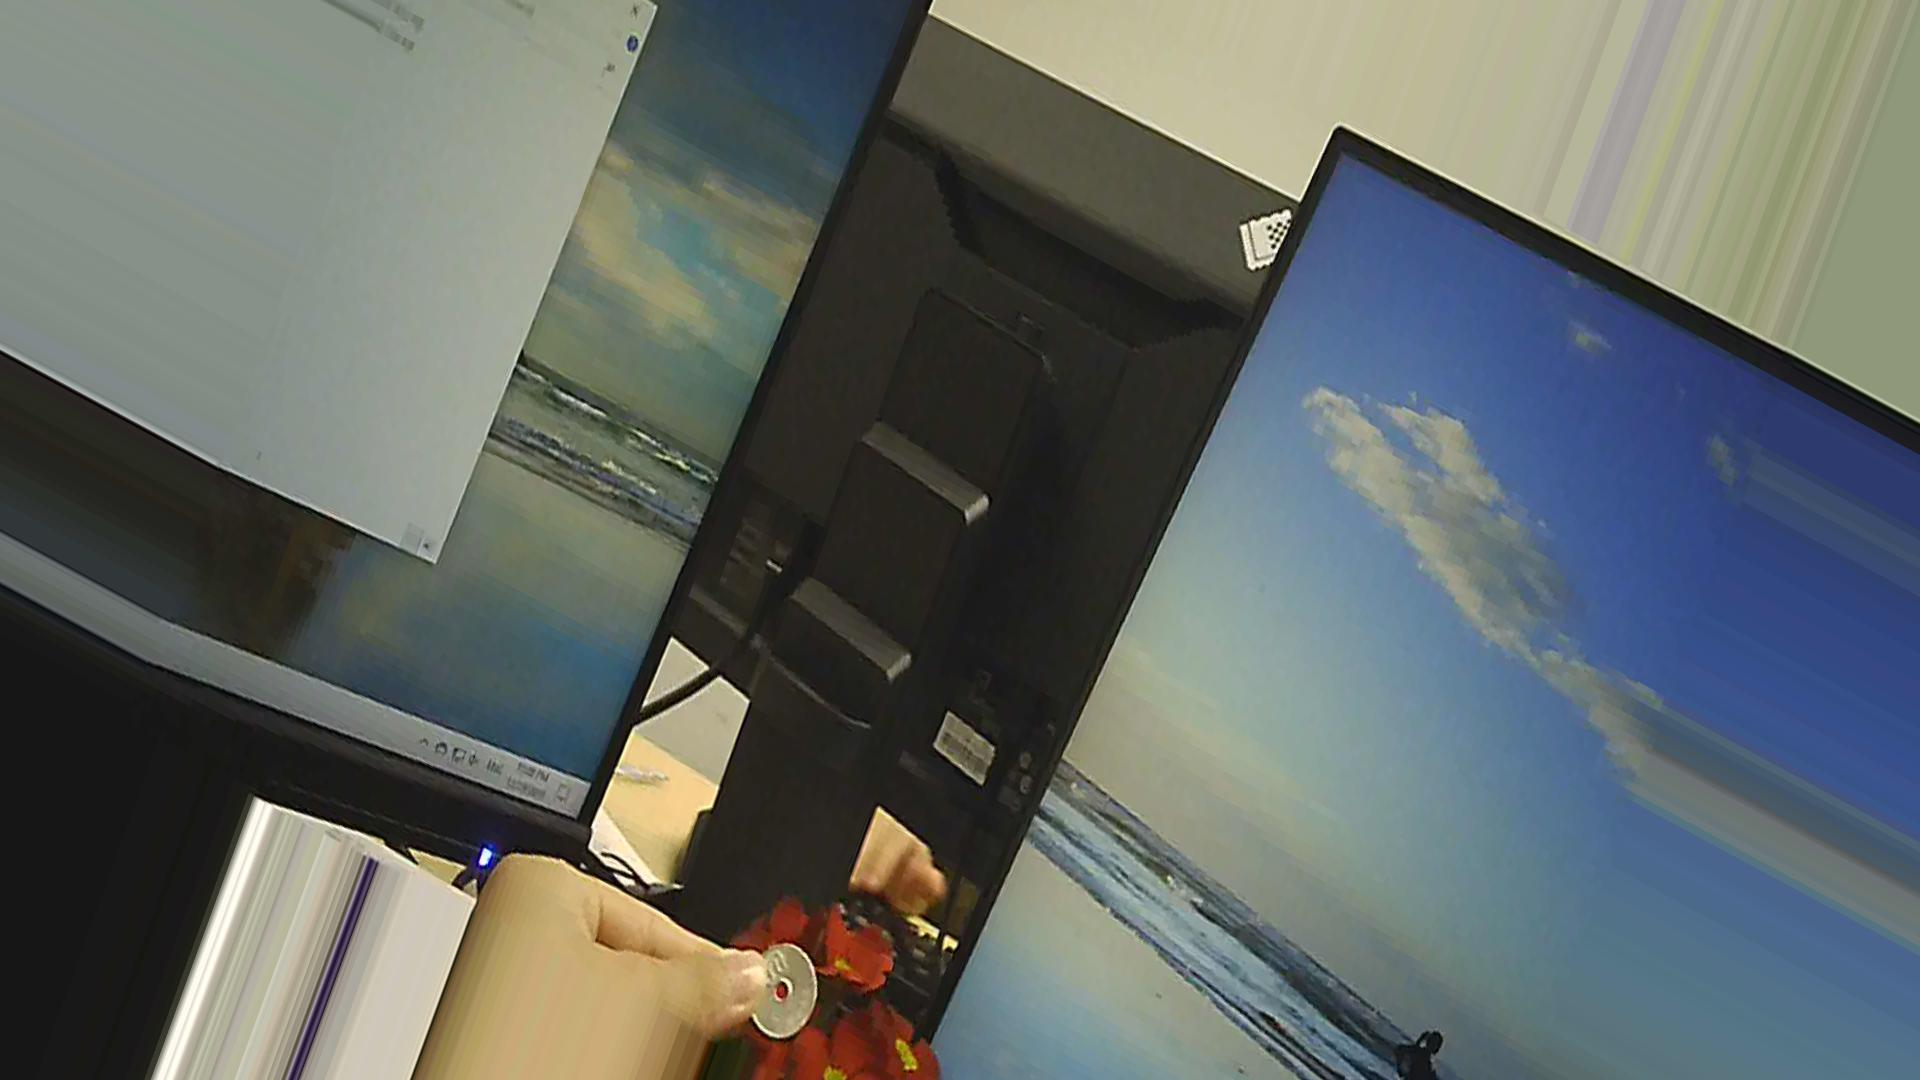50 Yen: (741, 952, 835, 1043)
